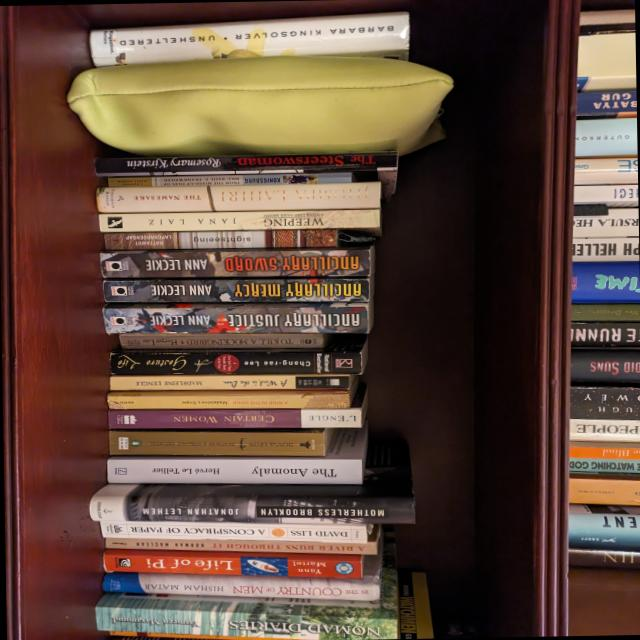book: (86, 442, 414, 529), (103, 423, 372, 512), (93, 567, 398, 640), (88, 11, 409, 67), (99, 549, 381, 610), (93, 151, 397, 205), (107, 383, 367, 431), (109, 333, 366, 379), (104, 524, 379, 559), (95, 181, 380, 214), (98, 247, 373, 280), (102, 301, 372, 334), (105, 378, 357, 413), (101, 547, 363, 579), (97, 209, 380, 238), (102, 277, 372, 303), (108, 427, 332, 458), (99, 520, 371, 544), (104, 228, 339, 251), (108, 373, 353, 391), (106, 172, 355, 187), (117, 332, 329, 349)
